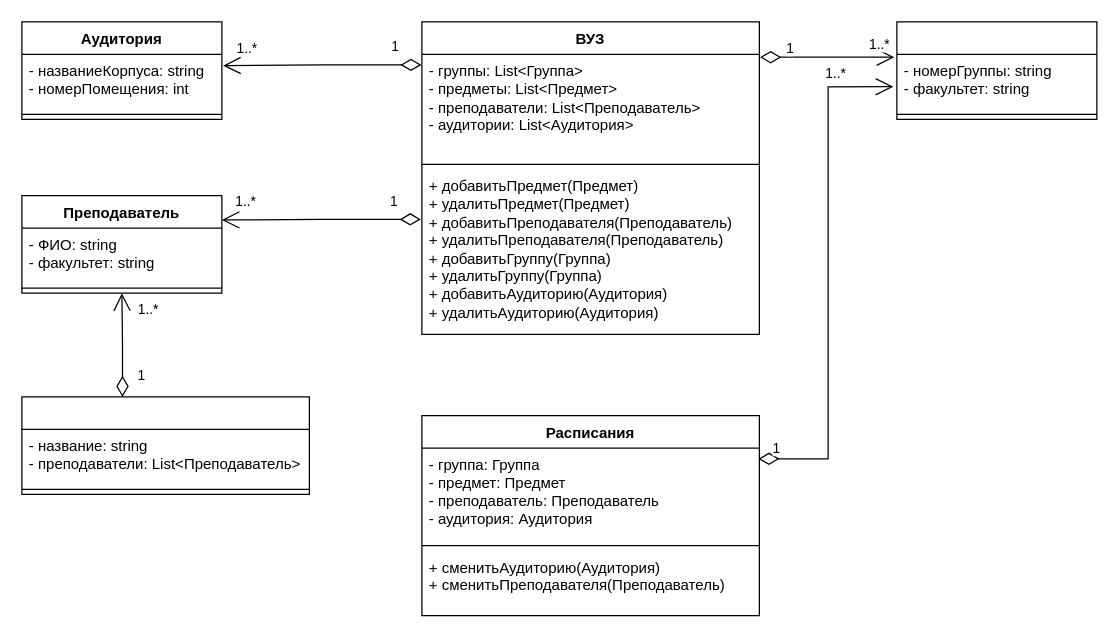
This 1119x641 diagram has some shape labels left out. Each missing label, with the box of its shape:
Группа: (896, 21, 1097, 119)
Предмет: (21, 396, 309, 494)
